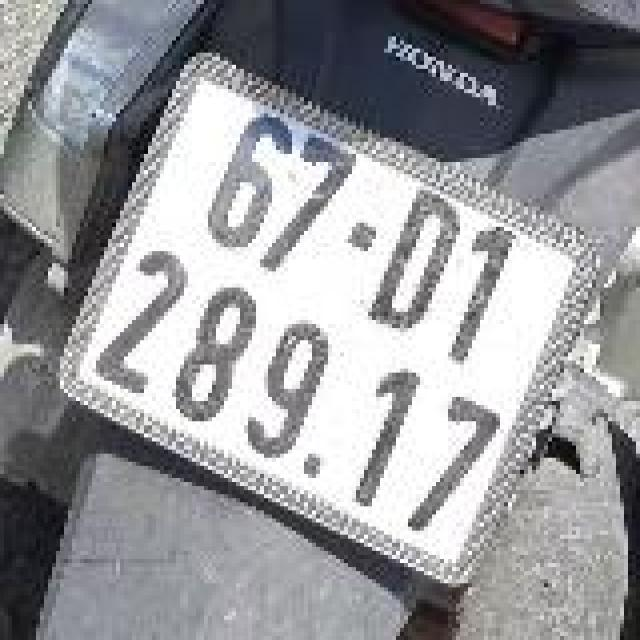1: (328, 351, 434, 519), (431, 213, 528, 372)
2: (85, 233, 206, 403)
6: (189, 102, 305, 265)
7: (251, 125, 367, 290), (400, 385, 507, 550)
8: (161, 272, 269, 437)
9: (229, 305, 346, 474)
D: (356, 176, 476, 352)
